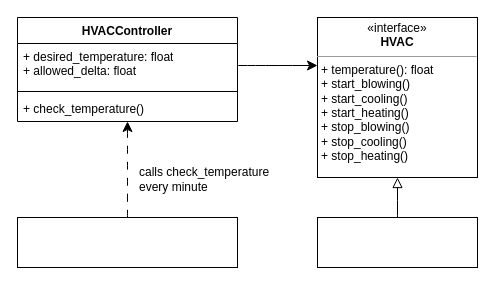
This 495x285 diagram has some shape labels left out. Here are the shapes that lost their labels. From the top down, the box of each, then its label:
(16, 216, 238, 268): Operating System
(316, 216, 478, 268): HVACTestDouble
